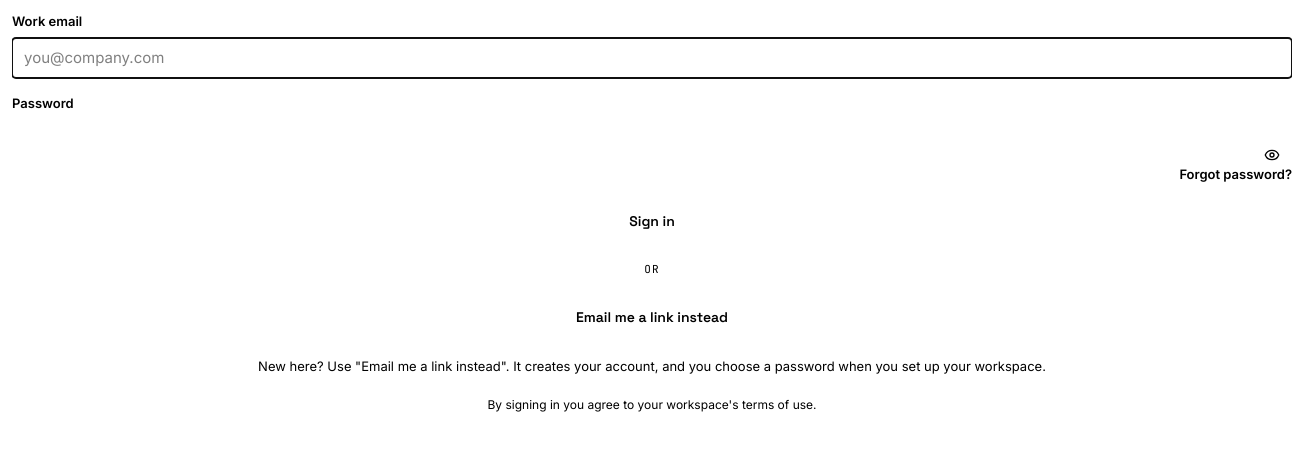
Test: SignInForm › says the same thing for any wrong pair and points at the link
The image size is (1304, 454).
Type "asha@example.com" into the field labelled "Work email" at (652, 58), box top-left (12, 38), bottom-right (1292, 78)
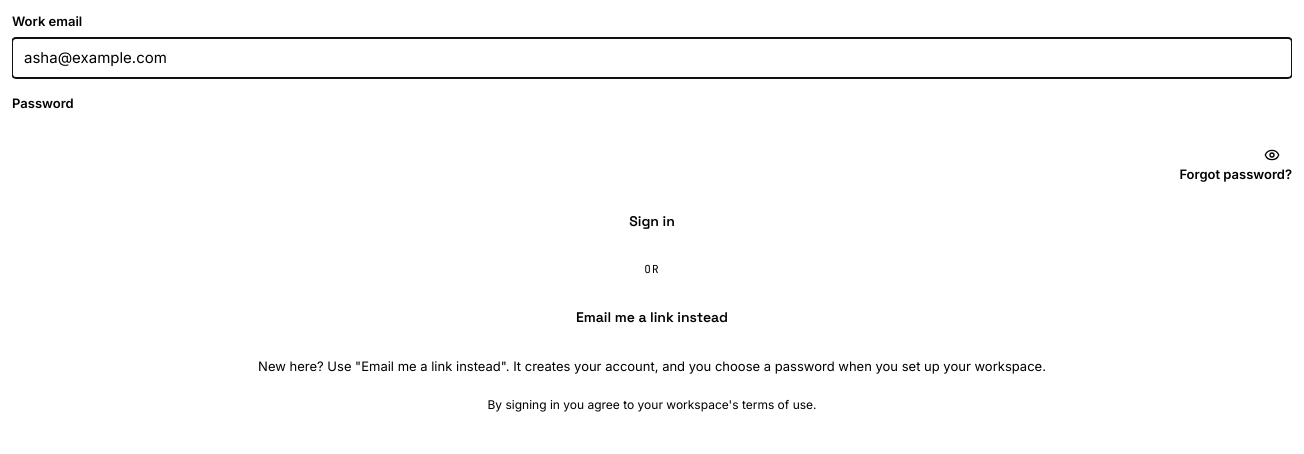
Type "not-the-password" into the password field labelled "Password" at (652, 139), box top-left (12, 119), bottom-right (1292, 159)
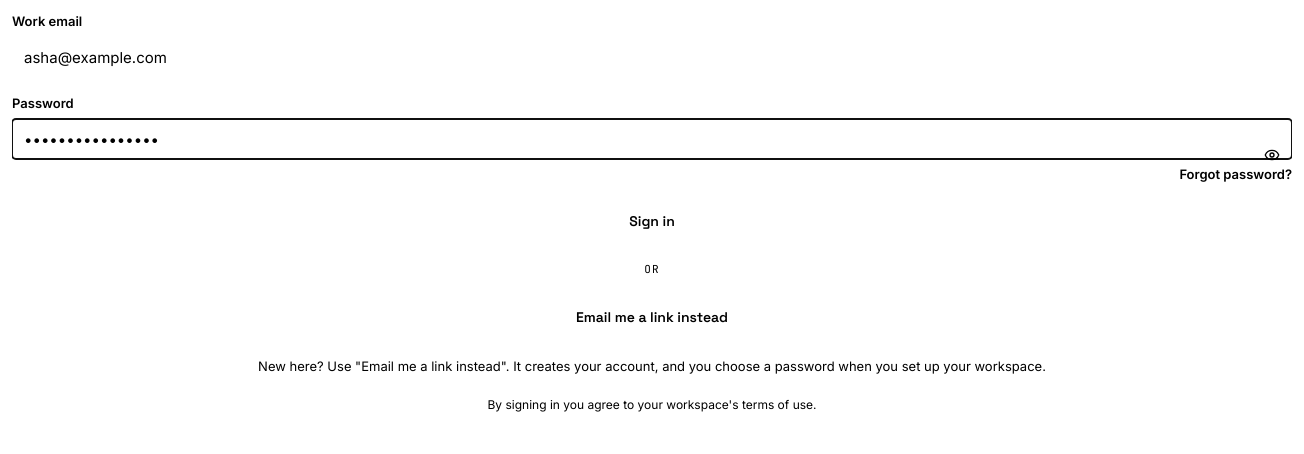
Click the button "Sign in" at (652, 220), box top-left (12, 200), bottom-right (1292, 240)
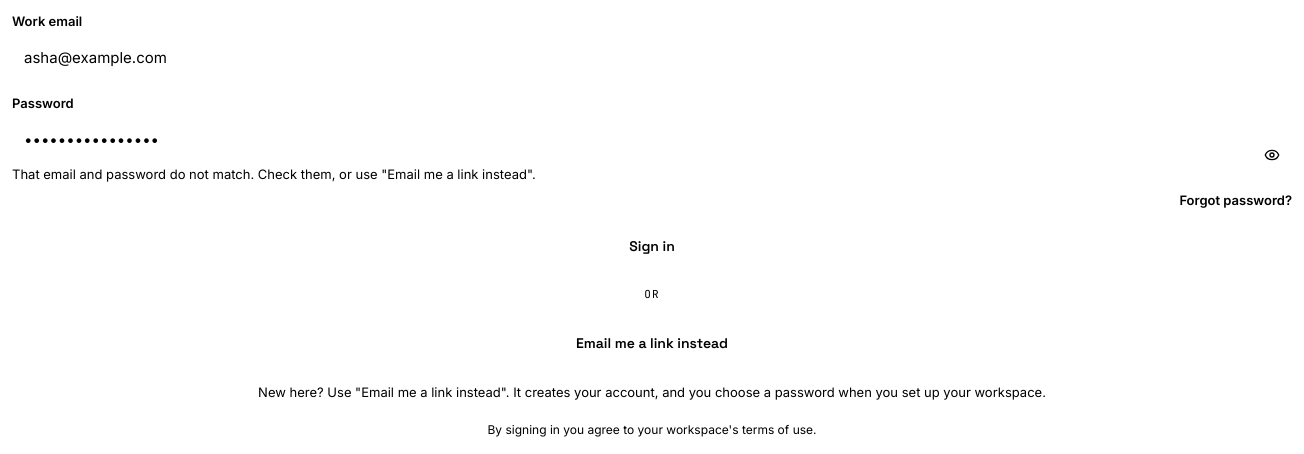
Expected: the message shows "That email and password do not match. Check them, or use \"Email me a link instead\".", top-left (12, 166), bottom-right (536, 182)
